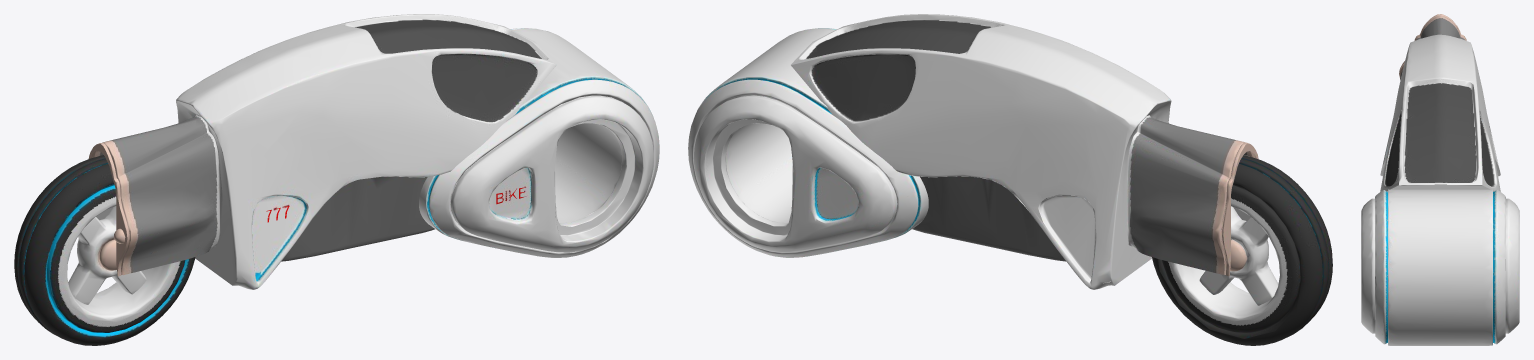
The model's file is asset.glb.
The picture shows the model from 3 angles, left to right: view 1: azimuth 30°, elevation 25°; view 2: azimuth 150°, elevation 25°; view 3: azimuth 270°, elevation 25°; orthographic projection. The views are drawn at different scales.
Bounding box in the file's own units: 1.61 × 0.6267 × 0.4604.
1 material, 1 textured.
